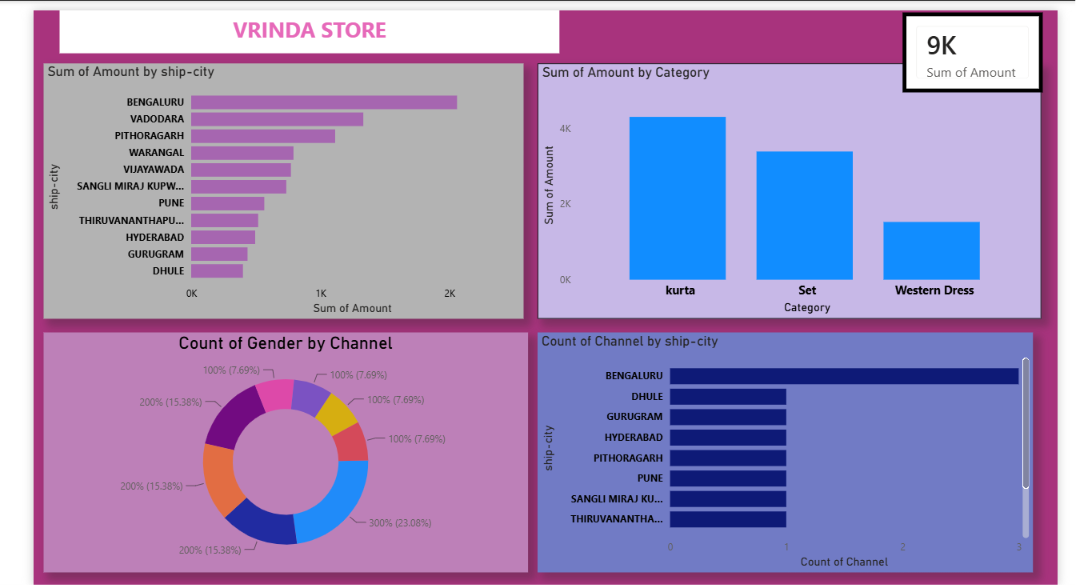

This screenshot's page, from the dashboard's own definition file:
{"tool":"powerbi","page":{"name":"Page 1","canvas":[1280,720],"ordinal":0},"visuals":[{"type":"clusteredBarChart","fields":{"Category":["Vrinda Store.ship-city"],"Y":["Sum(Vrinda Store.Amount)"]},"box":[13,66.3,600,319.6],"z":0},{"type":"textbox","box":[32.6,0,625,53.3],"z":1000},{"type":"columnChart","fields":{"Category":["Vrinda Store.Category"],"Y":["Sum(Vrinda Store.Amount)"]},"box":[630.4,66.3,629.3,319.6],"z":2000},{"type":"donutChart","fields":{"Y":["CountNonNull(Vrinda Store.Gender)"],"Category":["Vrinda Store.Channel "]},"box":[13,402.2,605.4,300],"z":3000},{"type":"clusteredBarChart","fields":{"Category":["Vrinda Store.ship-city"],"Y":["CountNonNull(Vrinda Store.Channel )"]},"box":[630.4,402.2,619.6,300],"z":4000},{"type":"cardVisual","fields":{"Data":["Sum(Vrinda Store.Amount)"]},"box":[1085.9,2.5,175,100],"z":5000}]}

Visuals, with their boxes in screenshot pixels (x1, y1, x2, y2):
clusteredBarChart - Vrinda Store.ship-city x Sum(Vrinda Store.Amount): [left=38, top=62, right=520, bottom=318]
textbox: [left=54, top=8, right=556, bottom=51]
columnChart - Vrinda Store.Category x Sum(Vrinda Store.Amount): [left=534, top=62, right=1038, bottom=318]
donutChart - CountNonNull(Vrinda Store.Gender) x Vrinda Store.Channel : [left=38, top=331, right=524, bottom=572]
clusteredBarChart - Vrinda Store.ship-city x CountNonNull(Vrinda Store.Channel ): [left=534, top=331, right=1031, bottom=572]
cardVisual - Sum(Vrinda Store.Amount): [left=899, top=10, right=1039, bottom=91]
